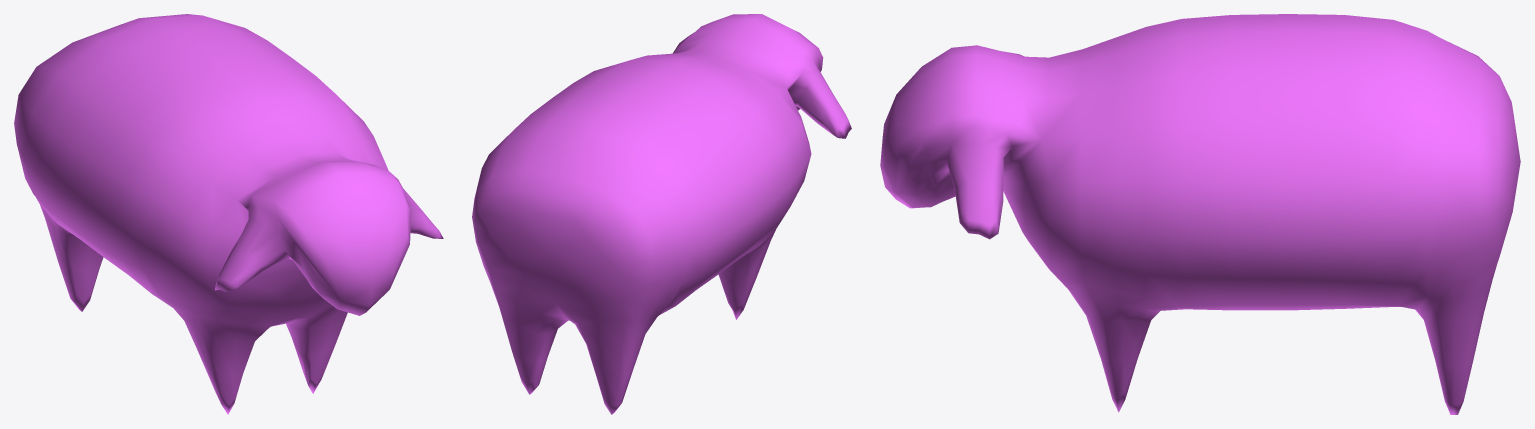
Rendered from FleeceFarms_Sheep_Body_Rigged.fbx.
3 views of the same model, side by side, from view 1: azimuth 30°, elevation 25°; view 2: azimuth 150°, elevation 25°; view 3: azimuth 270°, elevation 25° (orthographic). The views are drawn at different scales.
Visible parts, largest first — view 1: Sheep_Body; view 2: Sheep_Body; view 3: Sheep_Body.
Part boxes in pixels (box(x1,y1,x2,y2)): Sheep_Body: box(14, 14, 443, 414); Sheep_Body: box(472, 14, 851, 414); Sheep_Body: box(880, 14, 1520, 414).
Size of the model in its own units: 2.71 by 2.9 by 4.7.
